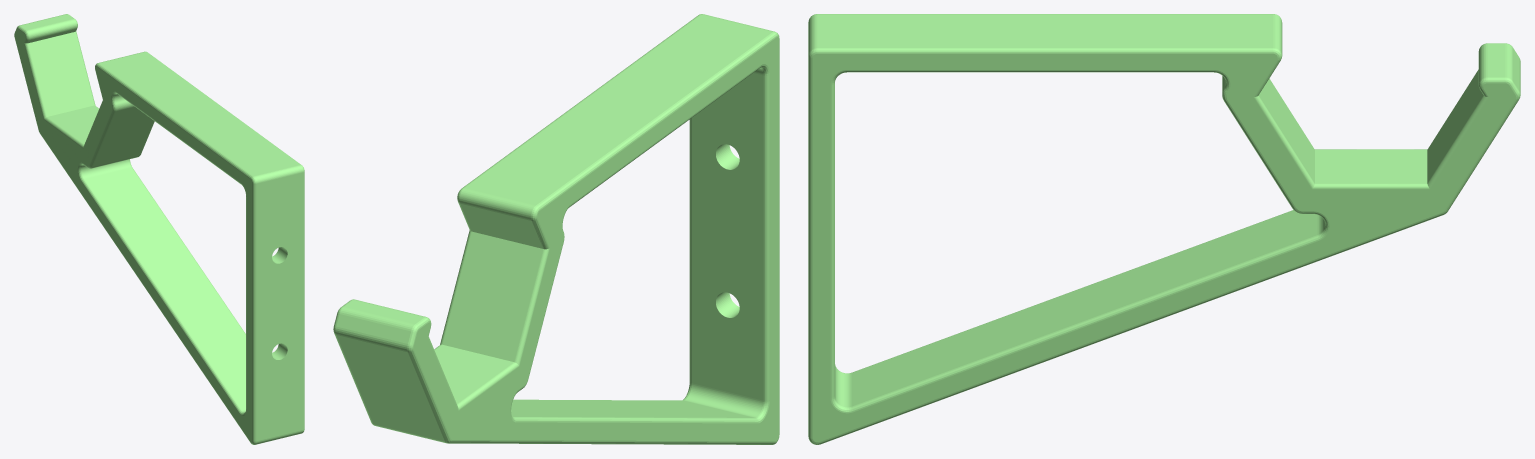
File: curtainrod-mount.glb
The picture shows the model from 3 angles, left to right: view 1: azimuth 30°, elevation 25°; view 2: azimuth 150°, elevation 25°; view 3: azimuth 270°, elevation 25°; orthographic projection. The views are drawn at different scales.
Parts seen in each view (by area): view 1: node_id3; view 2: node_id3; view 3: node_id3.
Boxes of the visible parts, box(x1,y1,x2,y2) form: node_id3: box(14, 14, 304, 444); node_id3: box(333, 14, 779, 444); node_id3: box(808, 14, 1520, 444).
Size of the model in its own units: 0.1034 by 0.512 by 0.8331.
1 material, 1 textured.
